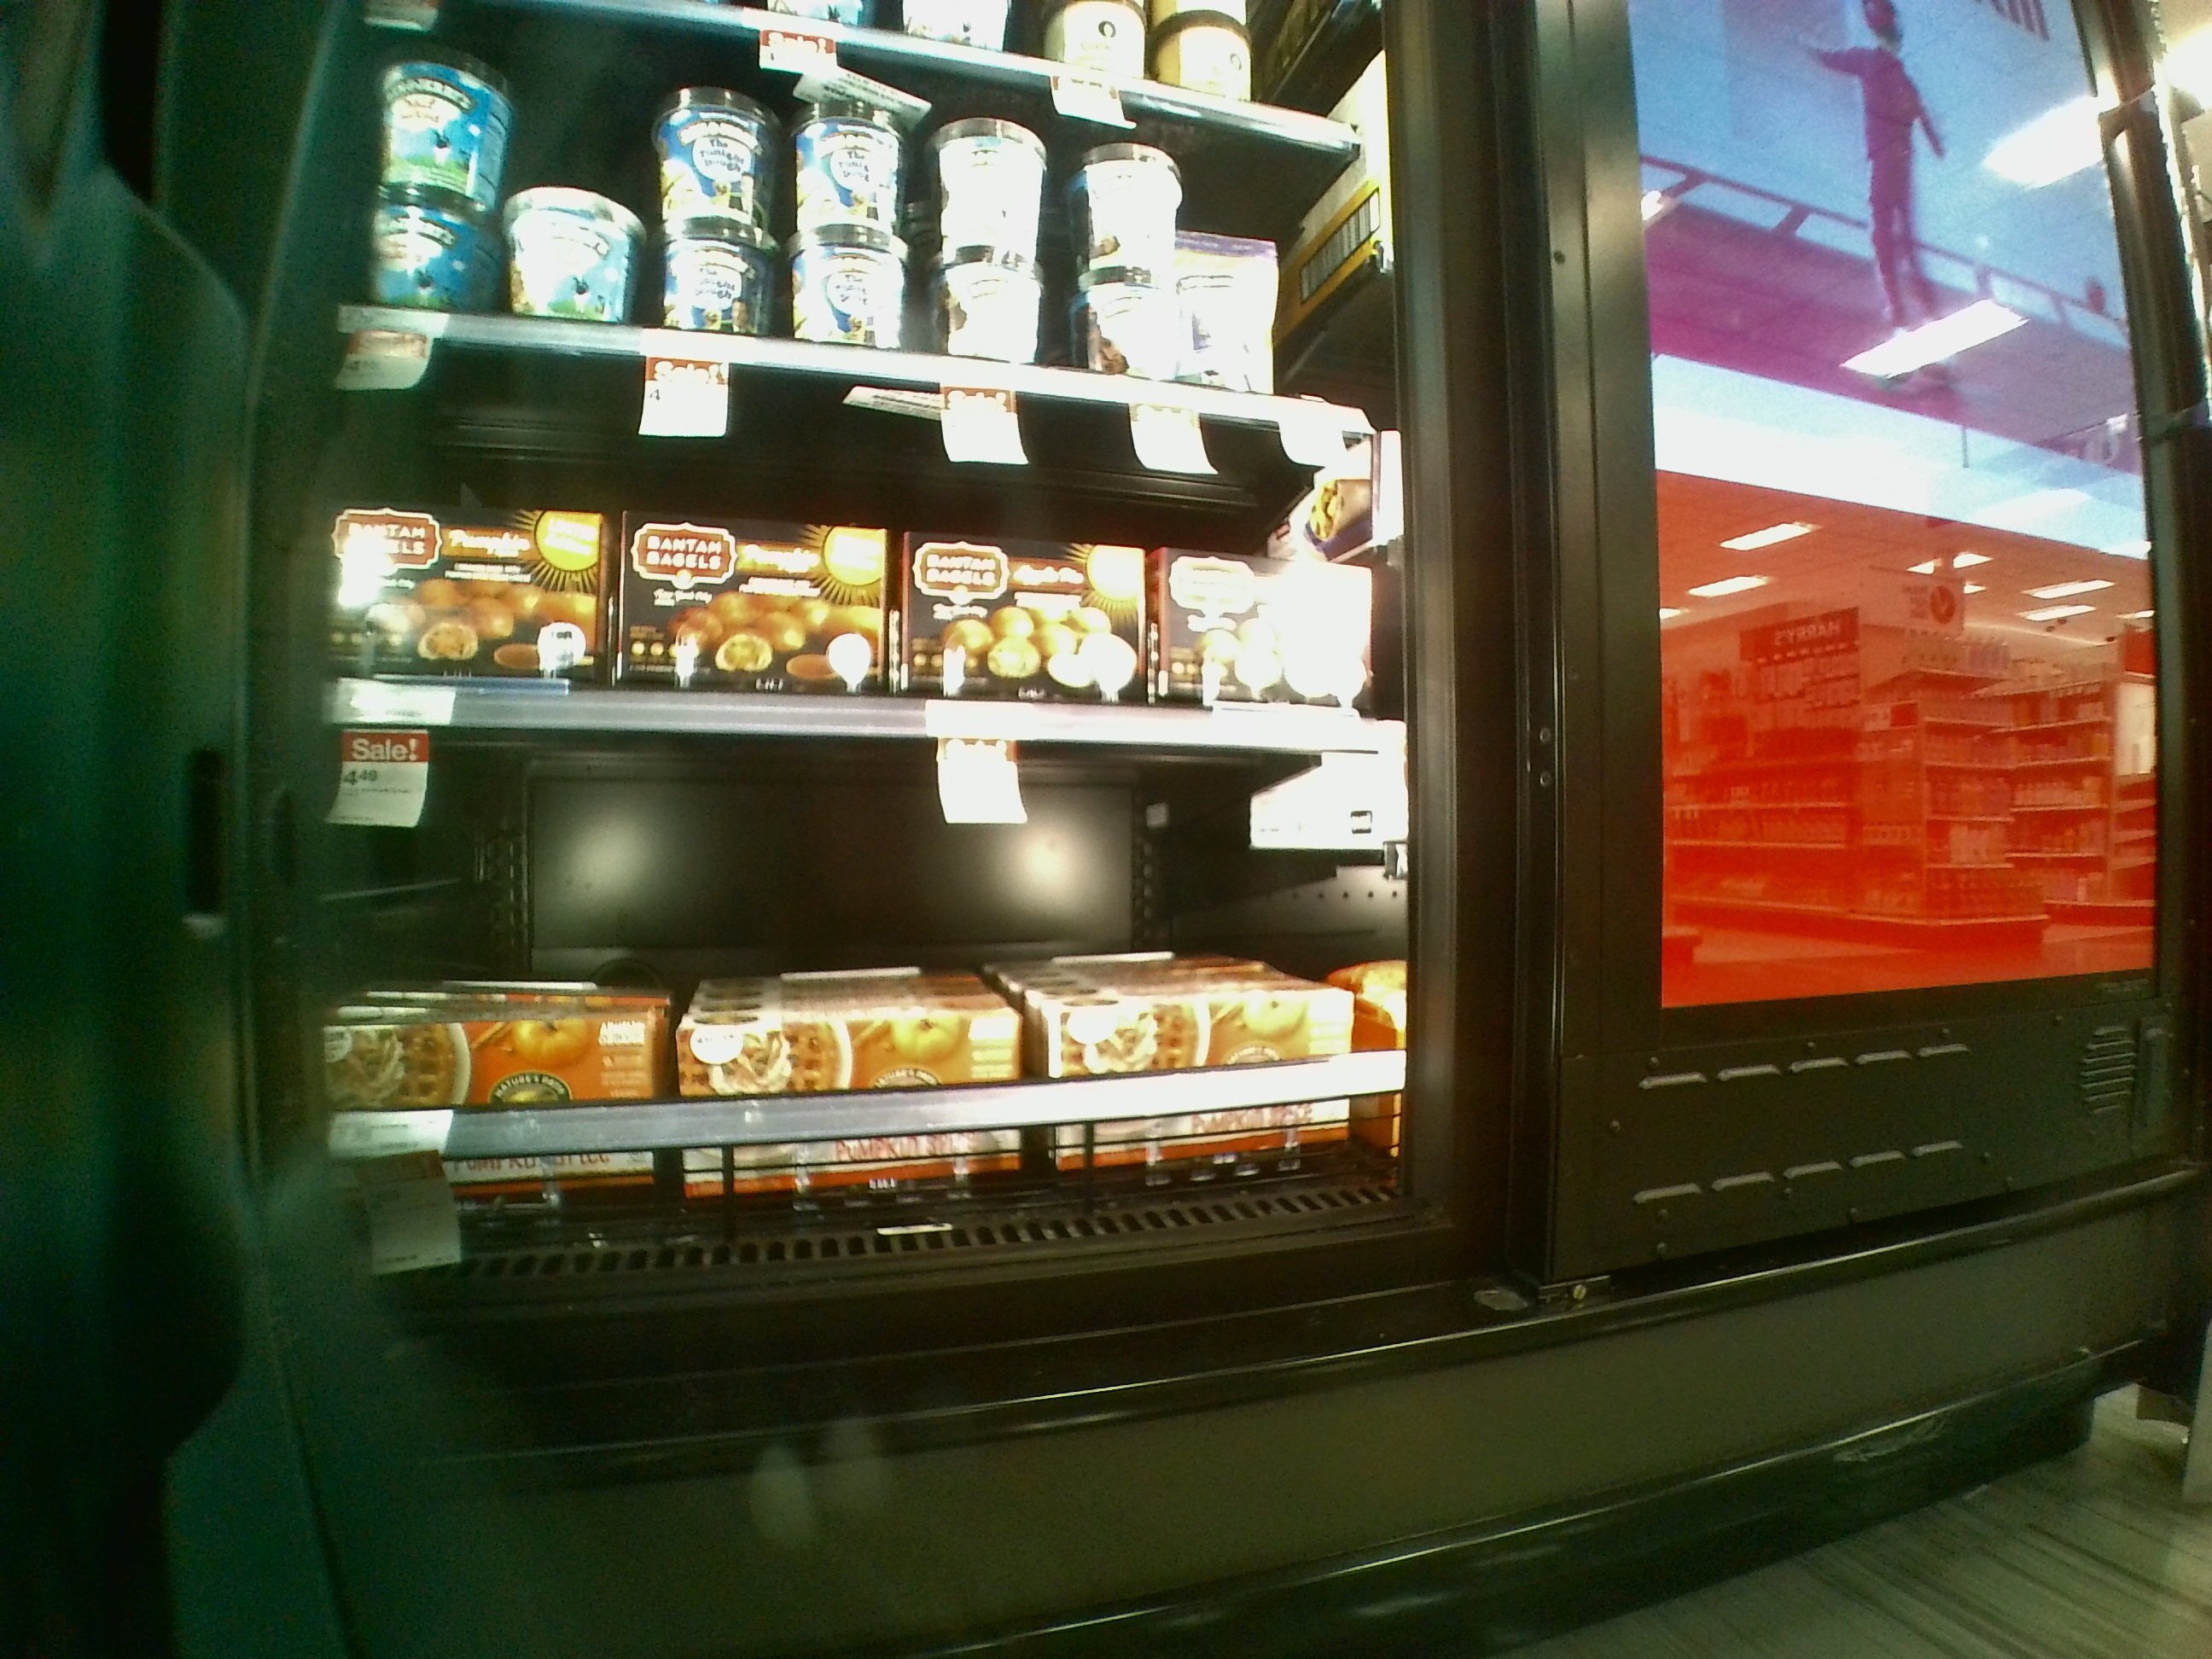shelf: (265, 708, 1428, 1286), (303, 336, 1416, 746)
